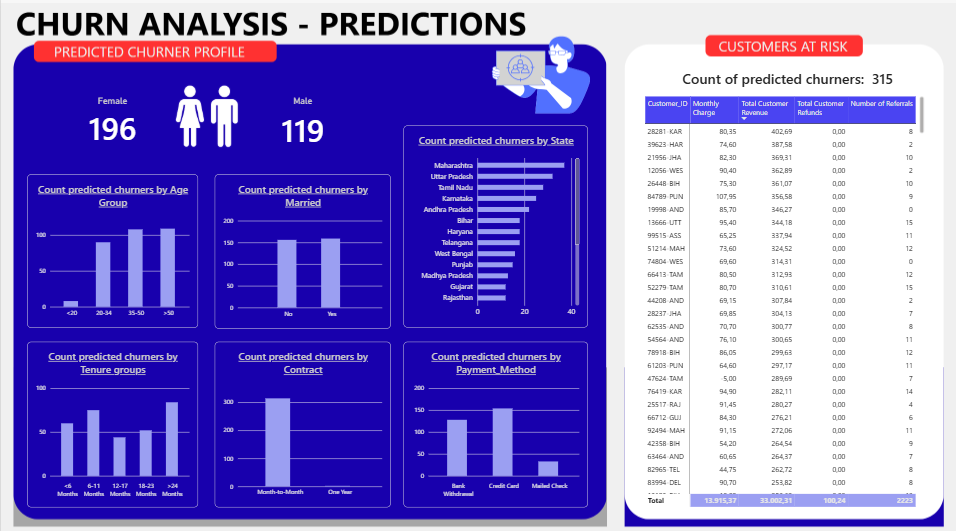

Layout of this report page (visuals, bound fields, positions):
{"tool":"powerbi","page":{"name":"Churn Predictions","canvas":[1920,1080],"ordinal":2},"visuals":[{"type":"image","box":[0,10.6,1920,1068.9],"z":0},{"type":"image","box":[329.6,157.2,163.3,155.7],"z":1000},{"type":"pivotTable","fields":{"Rows":["Predictions.Customer_ID"],"Values":["Sum(Predictions.Monthly_Charge_OK)","Sum(Predictions.Total_Revenue_OK)","Sum(Predictions.Total_Refunds_OK)","Sum(Predictions.Number_of_Referrals)"]},"box":[1272.9,181.4,589.6,851.1],"z":2000},{"type":"card","title":"Female","fields":{"Values":["tbl_mesures.Count predicted churners"]},"box":[75.6,179.9,296.3,125.5],"z":3000},{"type":"card","title":"Male","fields":{"Values":["tbl_mesures.Count predicted churners"]},"box":[430.9,181,347.7,140.6],"z":4000},{"type":"columnChart","fields":{"Category":["mapping_AgeGrp.Age Group"],"Y":["tbl_mesures.Count predicted churners"]},"box":[52.9,352.3,341.7,306.9],"z":5000},{"type":"columnChart","fields":{"Category":["Predictions.Married"],"Y":["tbl_mesures.Count predicted churners"]},"box":[426.3,352.3,352.3,308.4],"z":6000},{"type":"columnChart","fields":{"Category":["mapping_TenureGrp.Tenure groups"],"Y":["tbl_mesures.Count predicted churners"]},"box":[52.9,687.9,341.7,331.1],"z":7000},{"type":"columnChart","fields":{"Category":["Predictions.Payment_Method"],"Y":["tbl_mesures.Count predicted churners"]},"box":[804.3,687.9,368.9,331.1],"z":8000},{"type":"columnChart","fields":{"Category":["Predictions.Contract"],"Y":["tbl_mesures.Count predicted churners"]},"box":[426.3,687.9,352.3,331.1],"z":9000},{"type":"clusteredBarChart","fields":{"Category":["Predictions.State"],"Y":["tbl_mesures.Count predicted churners"]},"box":[804.3,255.5,368.9,403.7],"z":10000},{"type":"card","fields":{"Values":["tbl_mesures.Title predicted churners"]},"box":[1272.9,120.9,601.7,84.7],"z":11000}]}

Visuals, with their boxes in screenshot pixels (x1, y1, x2, y2), scaled from the page's 1920x1080 canvas onto the 956x531 screenshot:
image: x1=0, y1=5, x2=955, y2=530
image: x1=164, y1=77, x2=245, y2=154
pivotTable - Predictions.Customer_ID x Sum(Predictions.Monthly_Charge_OK): x1=634, y1=89, x2=927, y2=508
"Female" card: x1=38, y1=88, x2=185, y2=150
"Male" card: x1=215, y1=89, x2=388, y2=158
columnChart - mapping_AgeGrp.Age Group x tbl_mesures.Count predicted churners: x1=26, y1=173, x2=196, y2=324
columnChart - Predictions.Married x tbl_mesures.Count predicted churners: x1=212, y1=173, x2=388, y2=325
columnChart - mapping_TenureGrp.Tenure groups x tbl_mesures.Count predicted churners: x1=26, y1=338, x2=196, y2=501
columnChart - Predictions.Payment_Method x tbl_mesures.Count predicted churners: x1=400, y1=338, x2=584, y2=501
columnChart - Predictions.Contract x tbl_mesures.Count predicted churners: x1=212, y1=338, x2=388, y2=501
clusteredBarChart - Predictions.State x tbl_mesures.Count predicted churners: x1=400, y1=126, x2=584, y2=324
card - tbl_mesures.Title predicted churners: x1=634, y1=59, x2=933, y2=101
